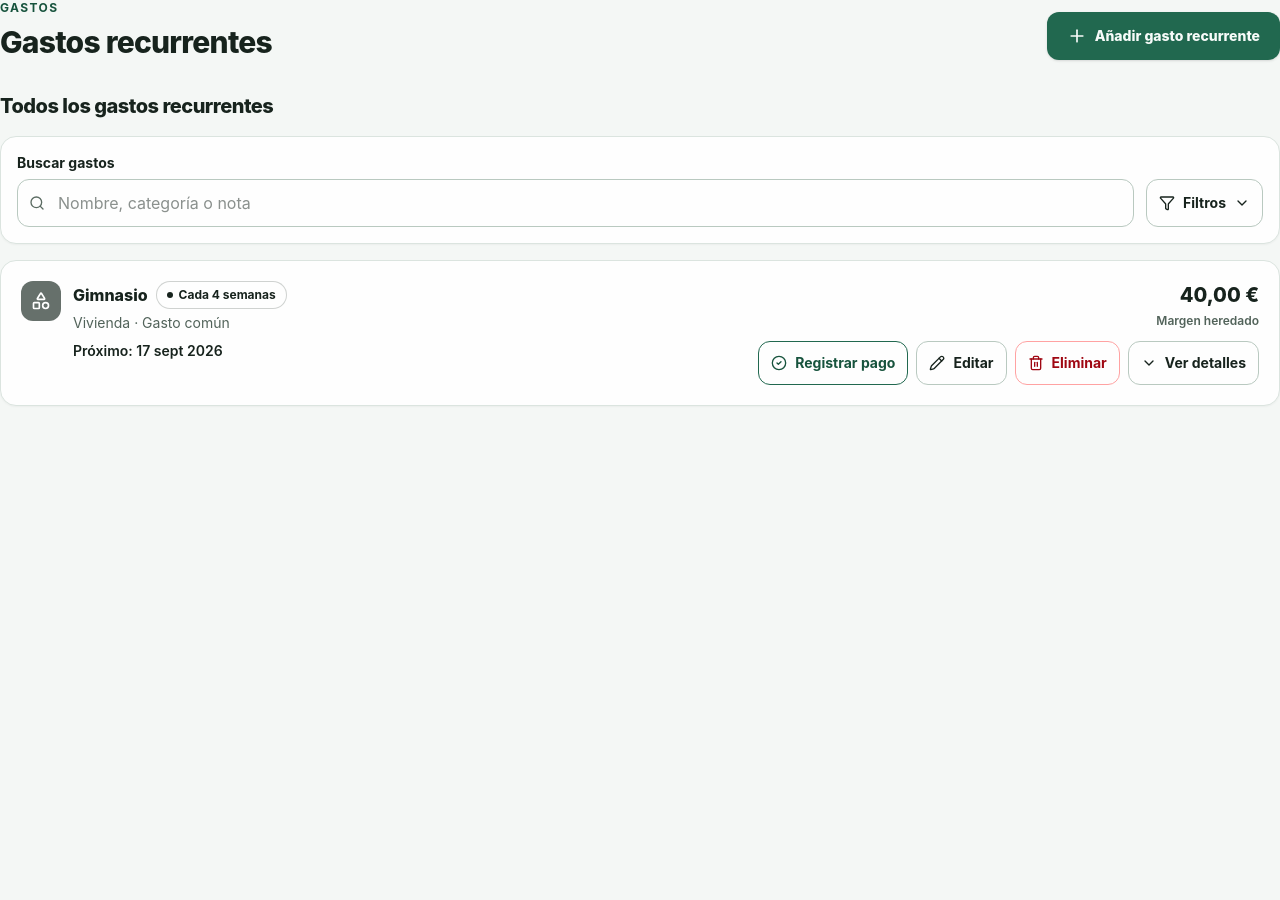
Scenario: RecurringExpensesPage › restaura el foco al cancelar el formulario de pago compartido
Click the button "Registrar pago": (833, 363) [758,341,908,385]
(page scrolled)
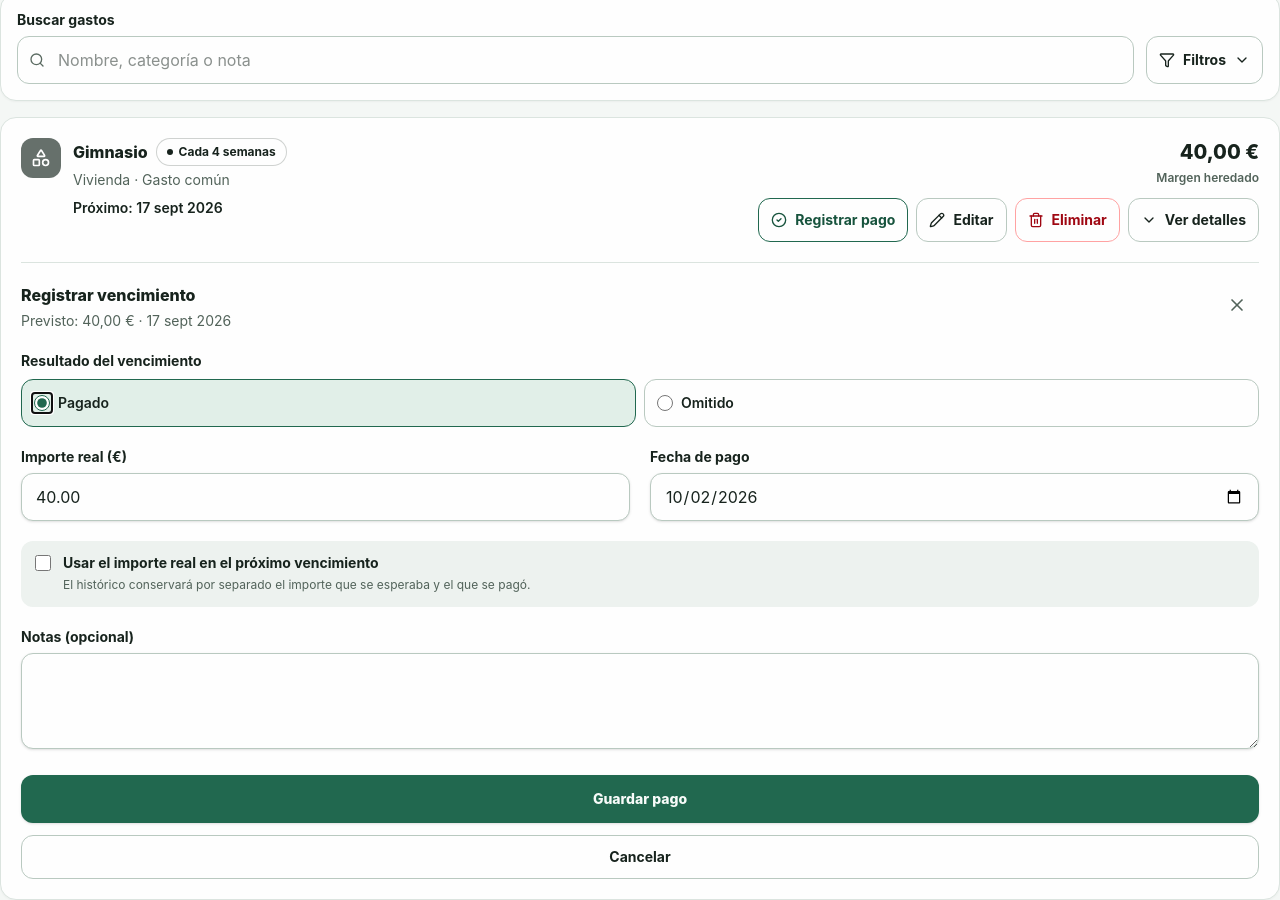
Now the button "Registrar pago" is expanded, box [758,198,908,242]
Click the button "Cancelar": (640, 857) [21,835,1259,879]
(page scrolled)
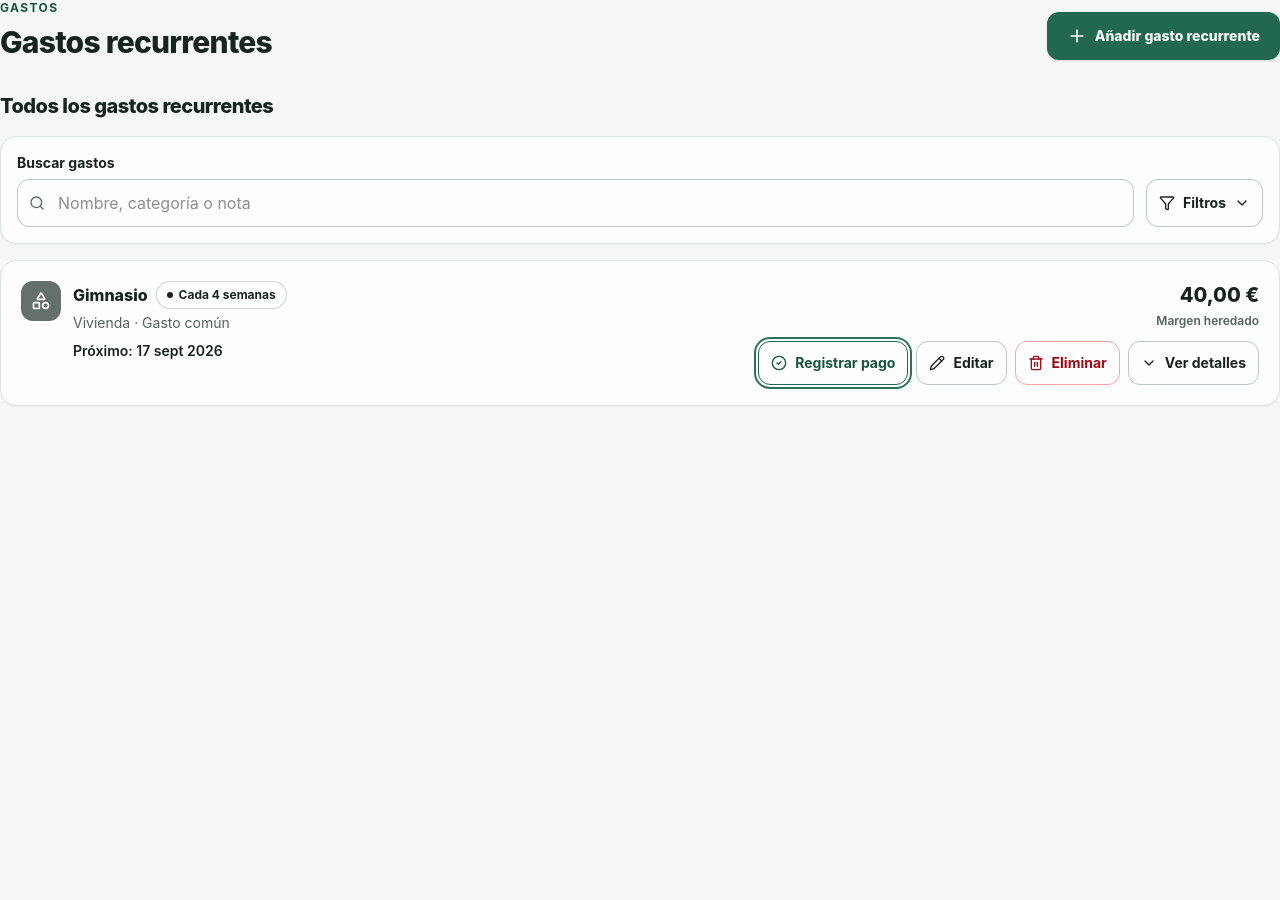
Now the button "Registrar pago" is collapsed, box [758,341,908,385]
